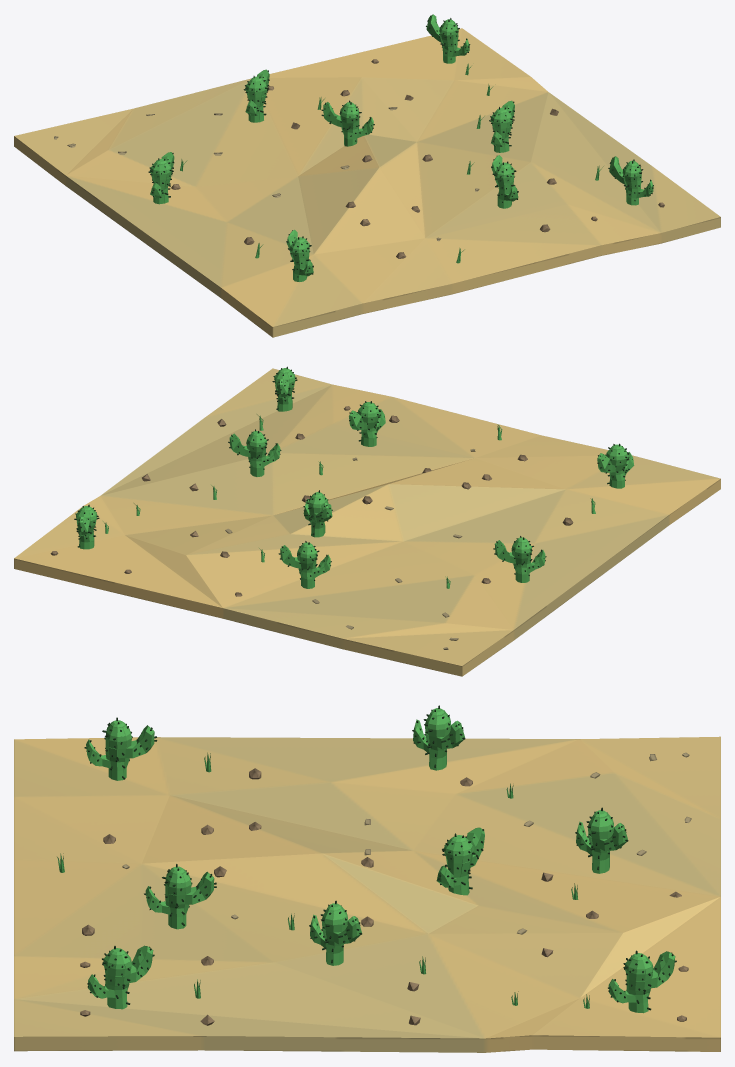
Rendered from Desert.glb.
3 views of the same model, one above another, from view 1: azimuth 30°, elevation 25°; view 2: azimuth 150°, elevation 25°; view 3: azimuth 270°, elevation 25° (orthographic). The views are drawn at different scales.
Visible parts, largest first — view 1: CUPIC_DESERT; view 2: CUPIC_DESERT; view 3: CUPIC_DESERT.
Boxes of the visible parts, x1=… form: CUPIC_DESERT: x1=14, y1=14, x2=720, y2=337; CUPIC_DESERT: x1=14, y1=366, x2=720, y2=676; CUPIC_DESERT: x1=14, y1=705, x2=720, y2=1052.
Bounding box in the file's own units: 1000 × 132 × 1000.
Materials: 1 (1 with a texture image).
